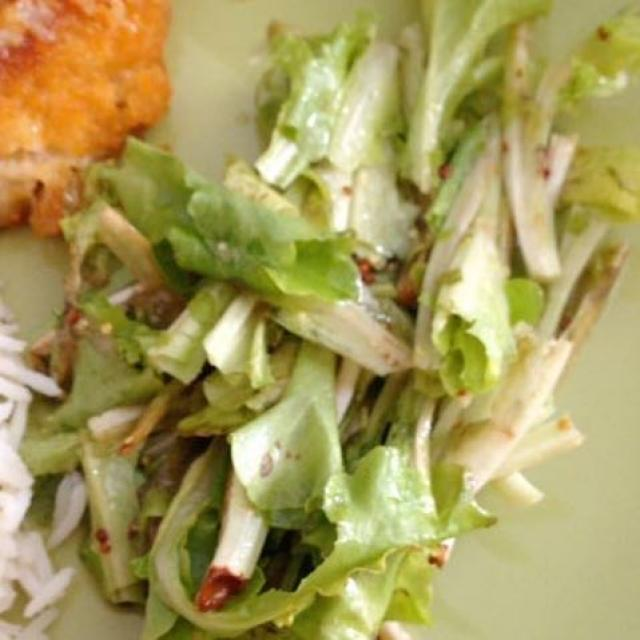salad-leaf-salad-green: (62, 18, 612, 635)
